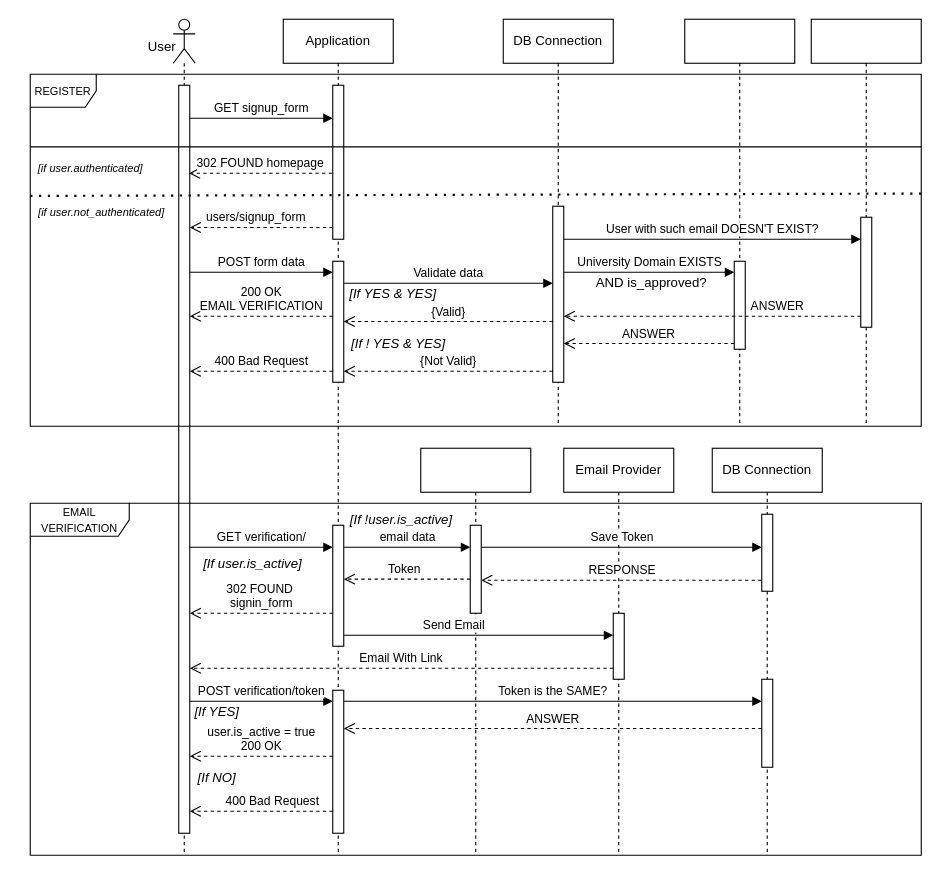
The diagram is 942 pixels wide and 875 high, and some of its shapes have lost their labels. The centre of each missing label's shape, as x and y in pixels:
"Token Generator" belongs at pixel 475 651.
"University Table" belongs at pixel 739 222.
"Users Table" belongs at pixel 865 222.
